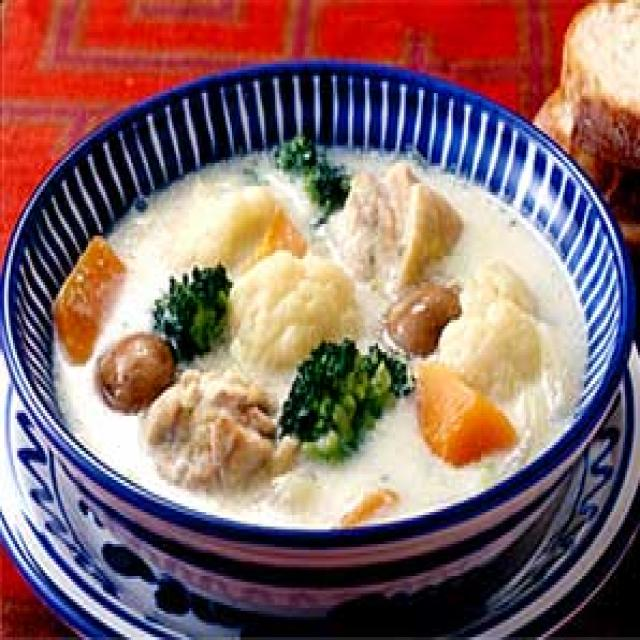汤锅炖物: (0, 55, 640, 640)
